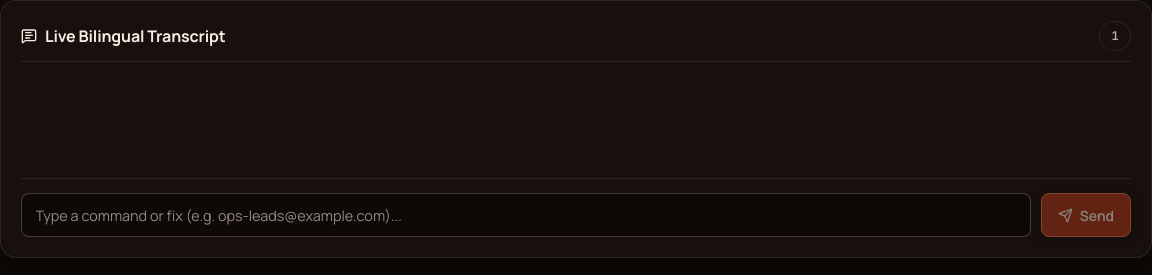
Test: SadaOps Bilingual Cockpit › submits typed text commands via TranscriptPanel and edits HITL payload inline
This screenshot has width=1152, height=275.
Later steps or results of the test are not shown.
Type "  send it to ops-leads@example.com  " into the field with test id "chat-text-input" at (526, 215), box 21,193 -> 1031,237
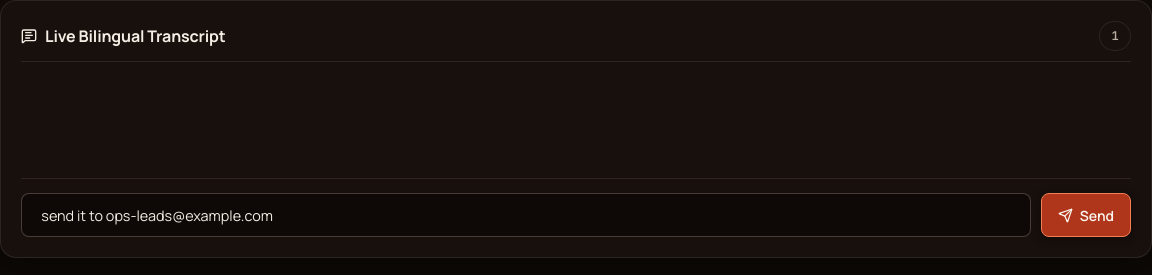
Click the button with test id "chat-send-btn" at (1086, 215), box 1041,193 -> 1131,237
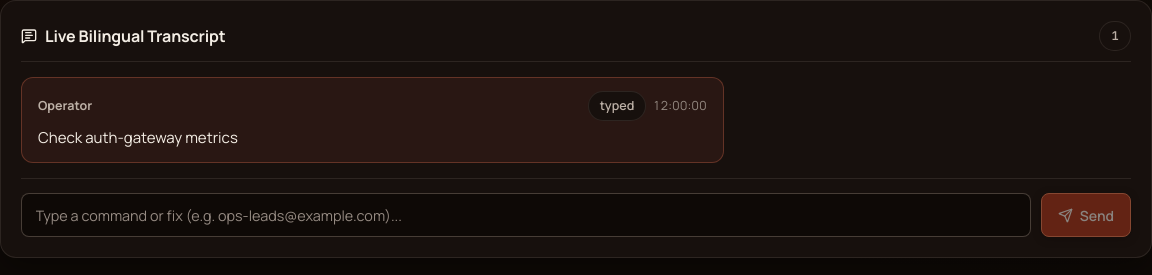
Expected: the field with test id "chat-text-input" is empty, 21,193 -> 1031,237
